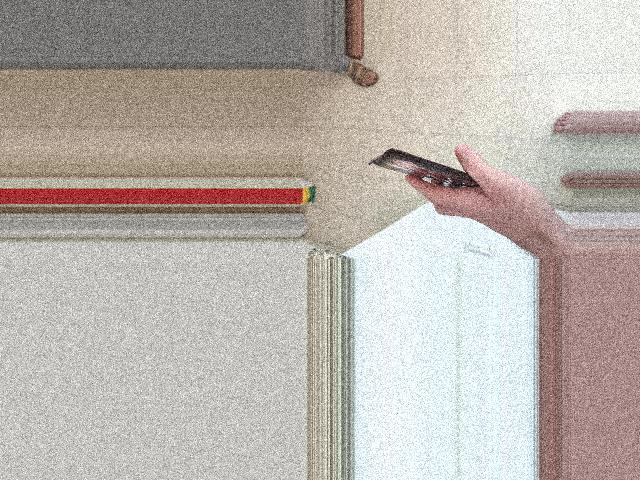chocolate: (365, 144, 528, 218)
